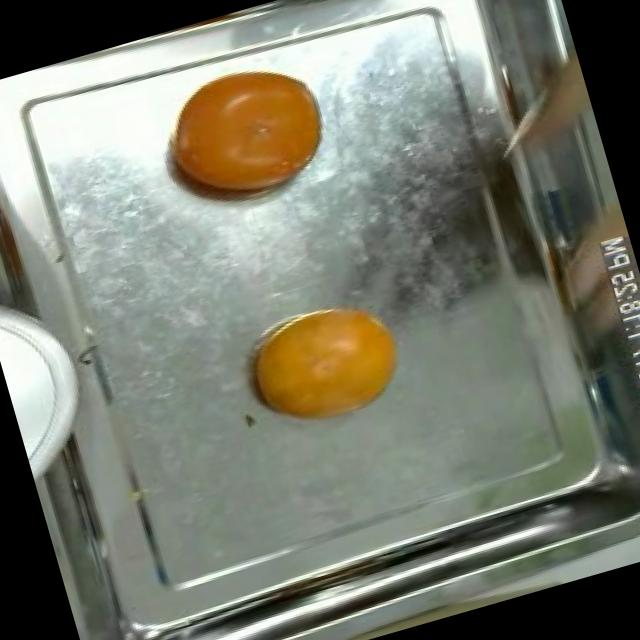Fruit: (141, 42, 349, 227), (227, 288, 420, 448)
